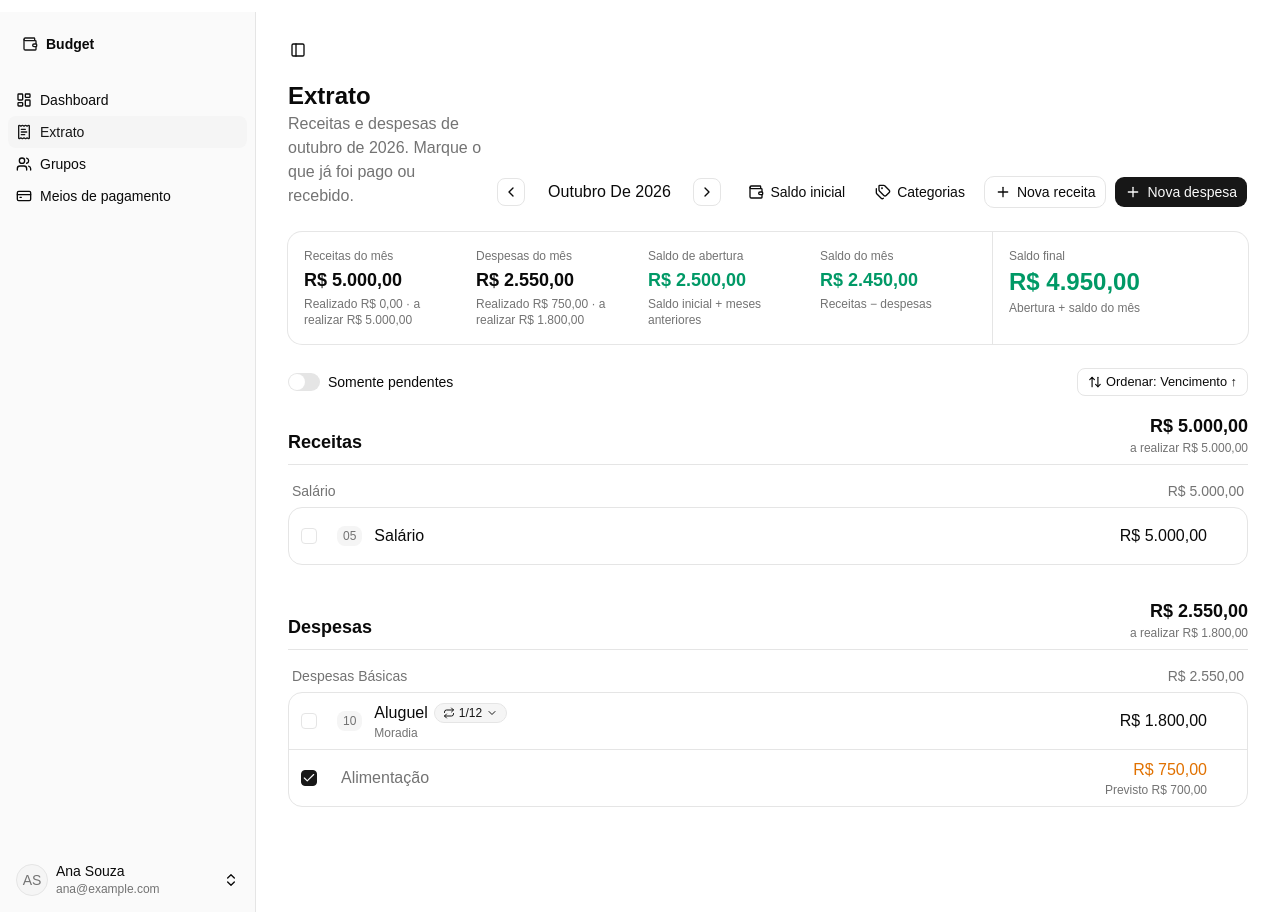
Test: Statement route (/extrato) › month view › moves to other months and back to the current one
This screenshot has width=1280, height=912.
Expected: the heading "Extrato" is shown, 288,82 -> 371,109
Click the button named "Próximo mês".
click(708, 192)  # box 694,178 -> 722,206
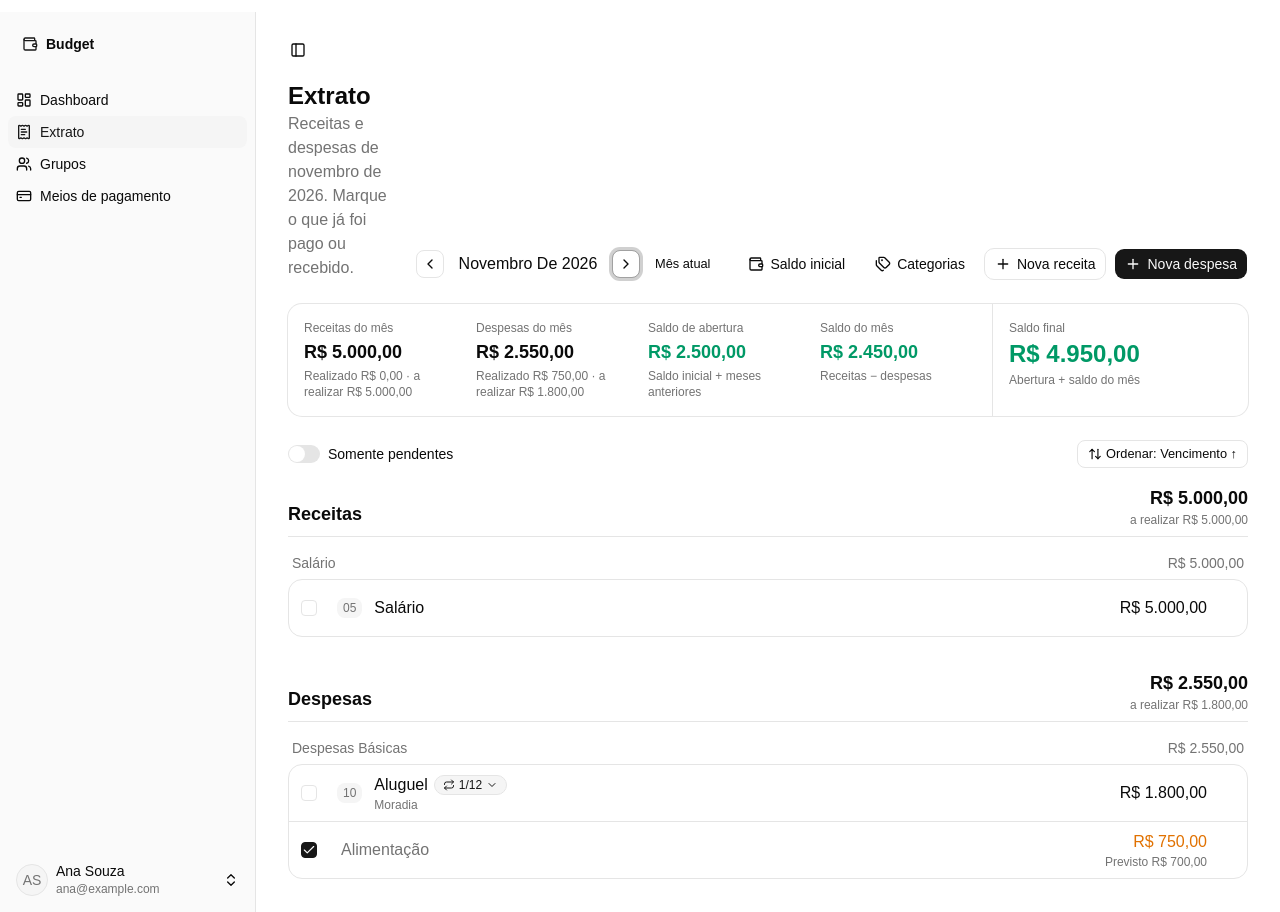
Expected: the text "Receitas e despesas de novembro de 2026" is shown, 288,112 -> 400,280
Click the button named "Mês anterior".
click(430, 264)  # box 416,250 -> 444,278
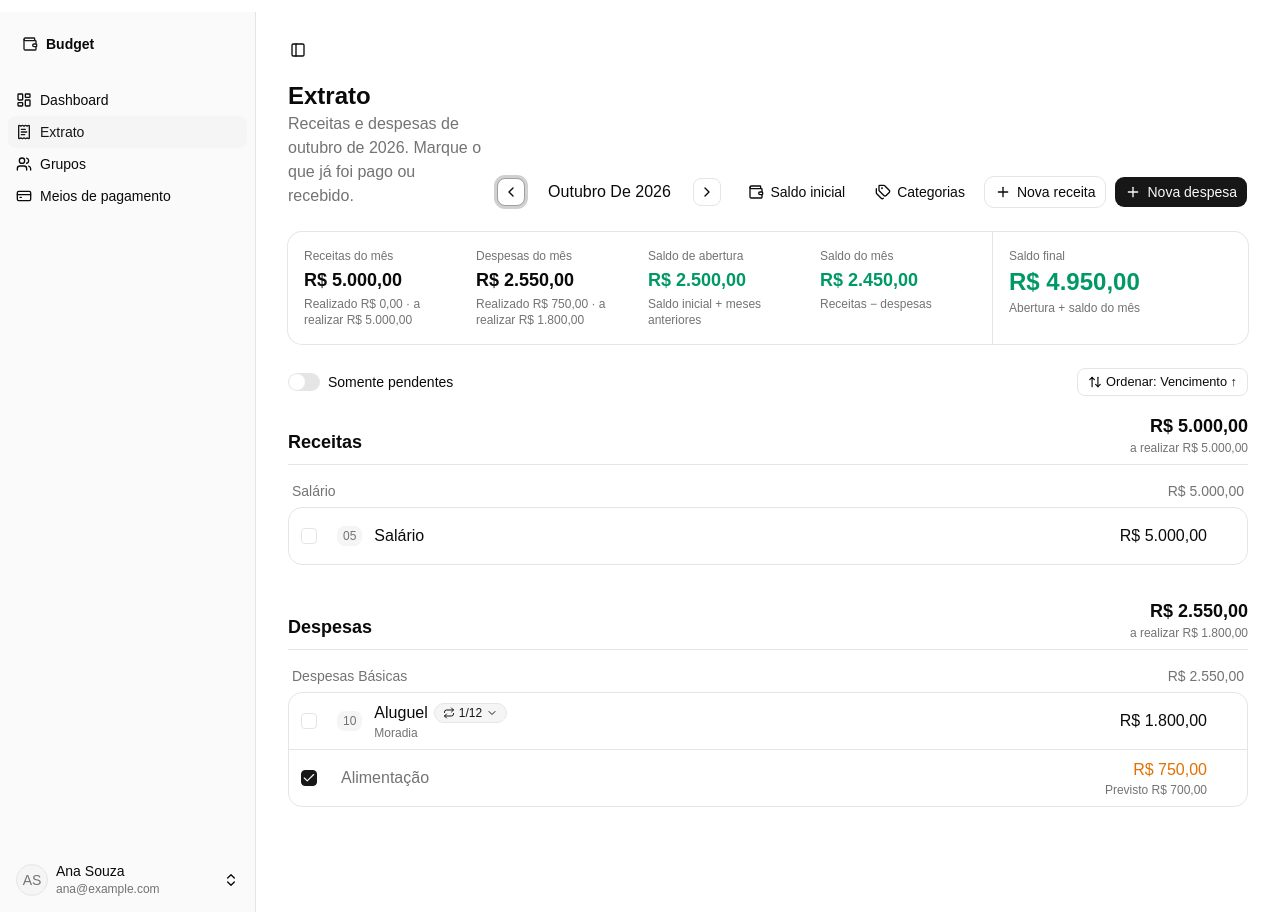
Click the button named "Mês anterior".
click(512, 192)  # box 498,178 -> 526,206
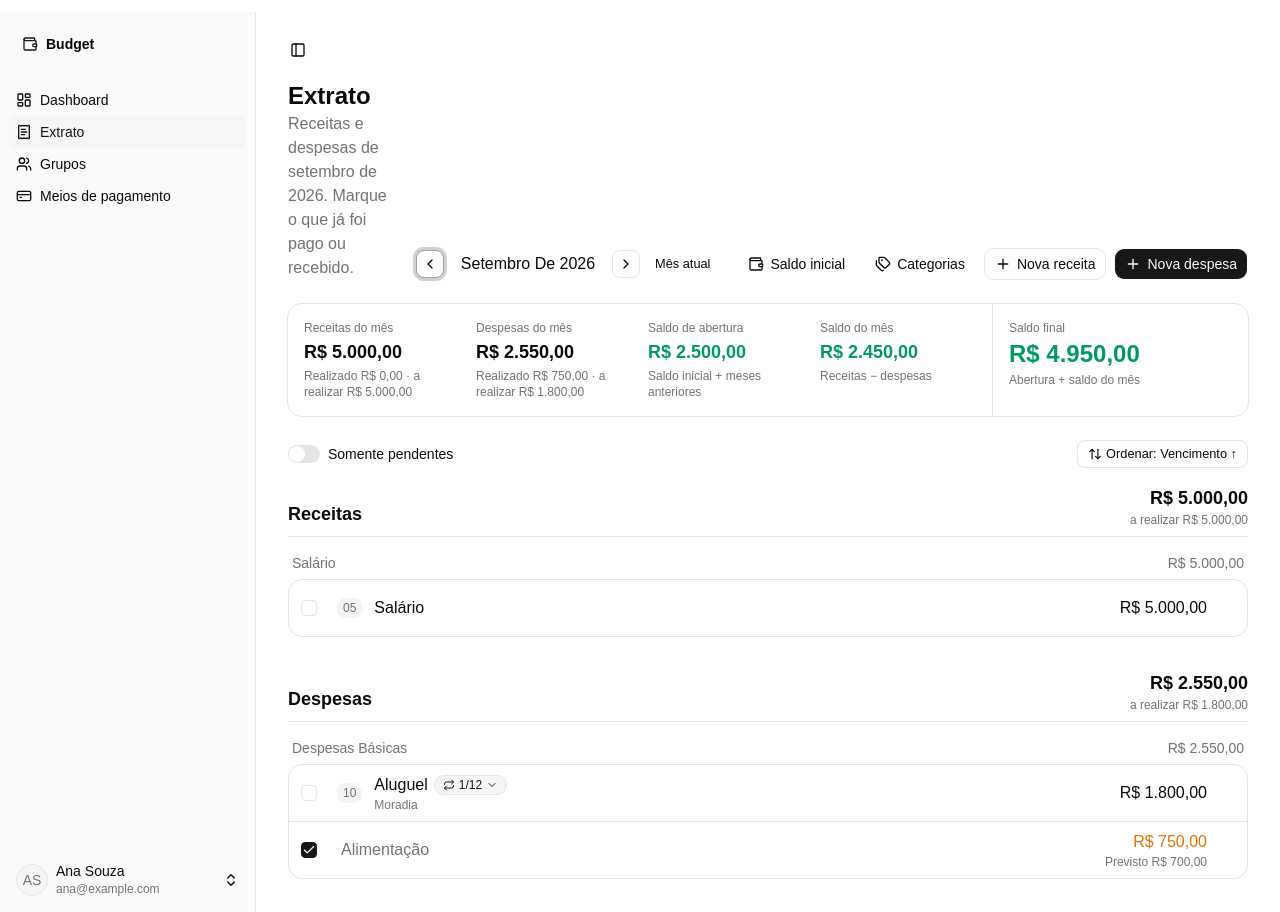
Expected: the text "Receitas e despesas de setembro de 2026" is shown, 288,112 -> 400,280
Click the button "Mês atual".
click(683, 264)  # box 644,250 -> 722,278
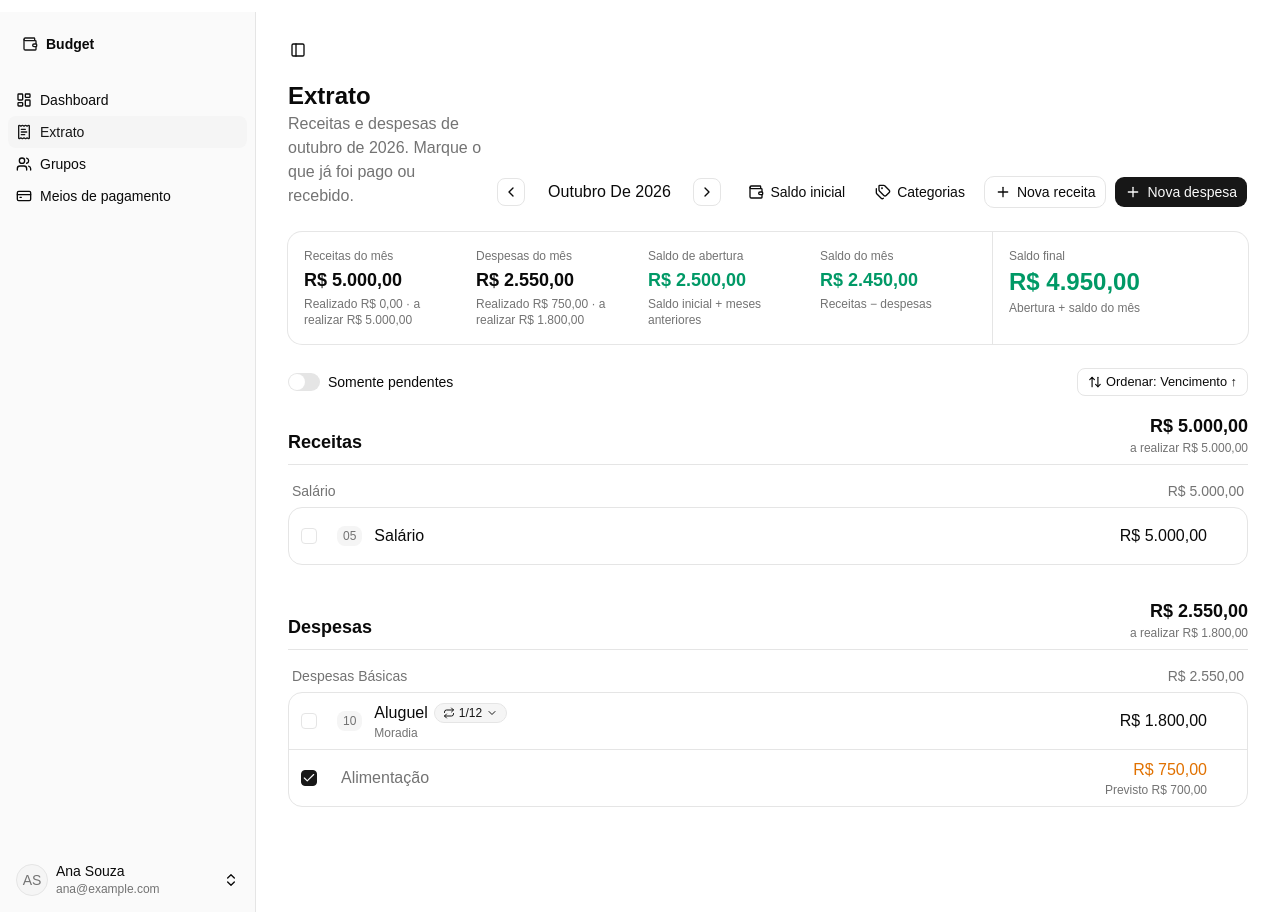
Expected: the text "Receitas e despesas de outubro de 2026" is shown, 288,112 -> 482,208
Expected: the button "Mês atual" is gone
